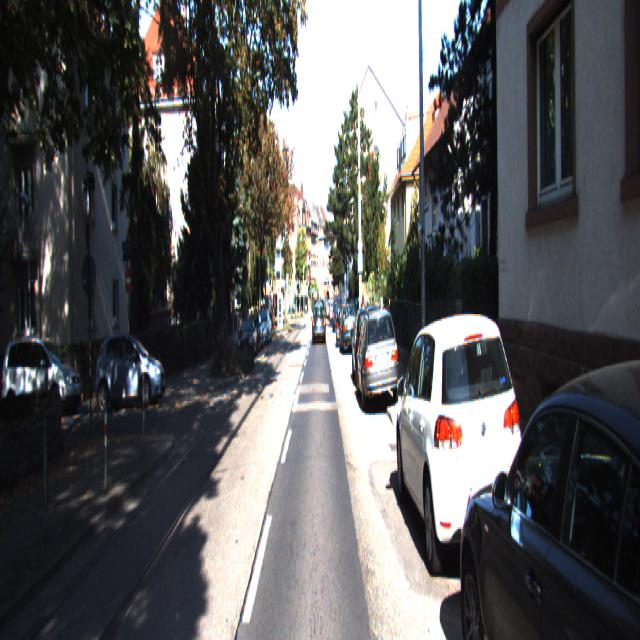Car: (458, 326, 640, 638), (394, 298, 530, 595), (2, 333, 85, 421), (94, 330, 168, 416), (355, 306, 400, 416), (351, 303, 382, 392), (339, 303, 359, 356), (312, 302, 326, 345)
